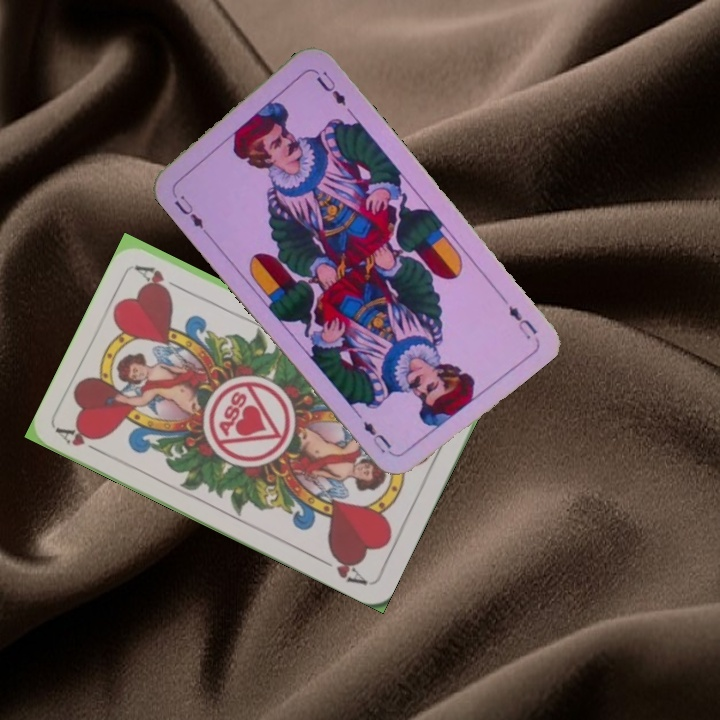EU: (167, 184, 206, 231), (504, 301, 541, 342)
HA: (54, 424, 109, 458)
